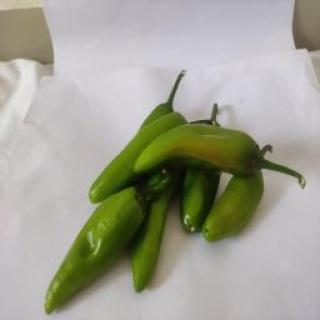Cabai Hijau: (41, 187, 149, 319), (133, 122, 309, 191)
